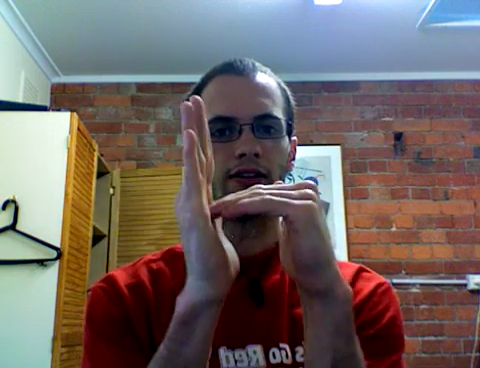Z: (169, 93, 346, 297)
